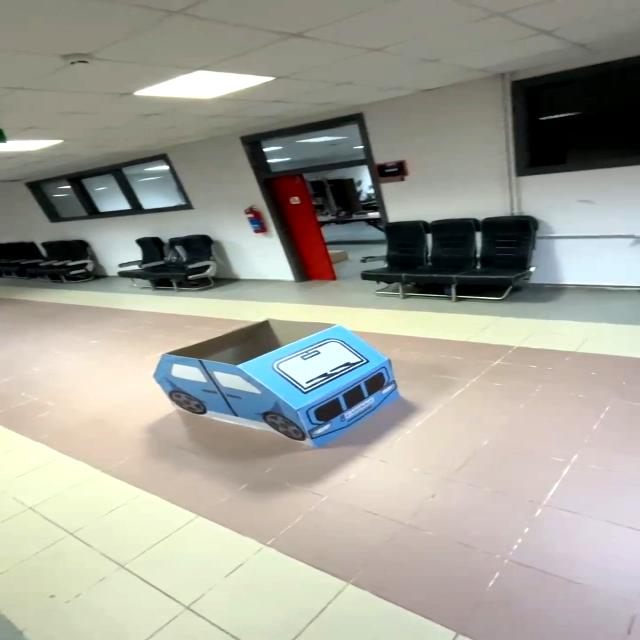blue_car: (125, 309, 433, 471)
